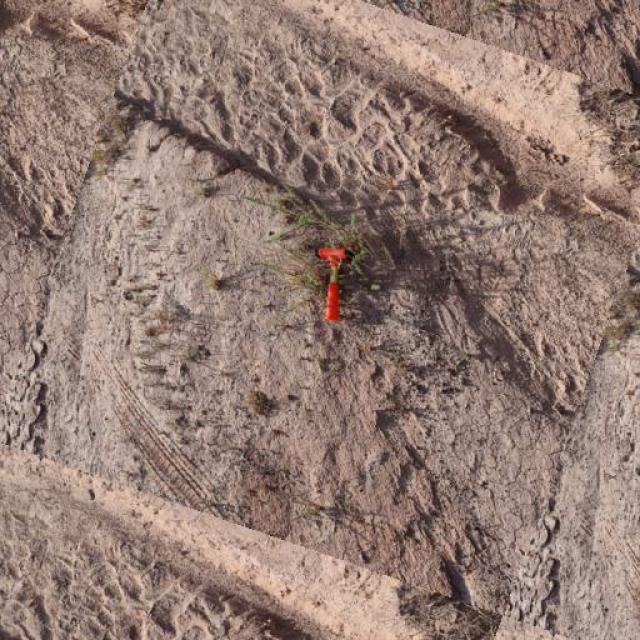mallet: (316, 244, 355, 321)
